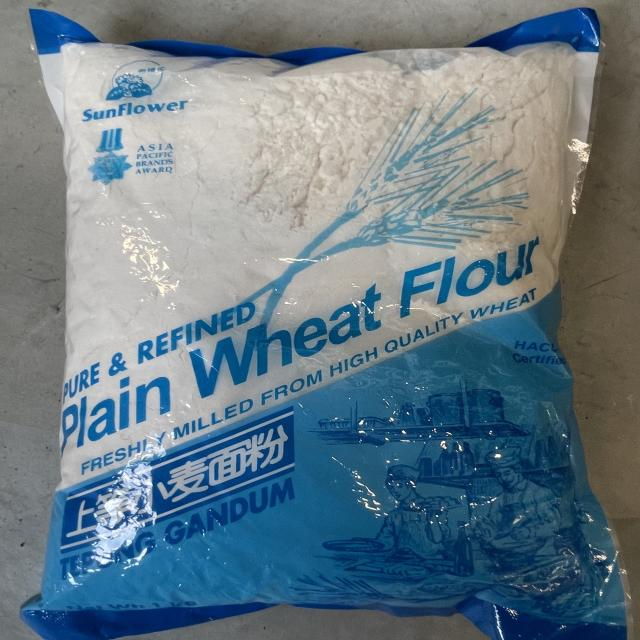object_name: (58, 40, 567, 629)
